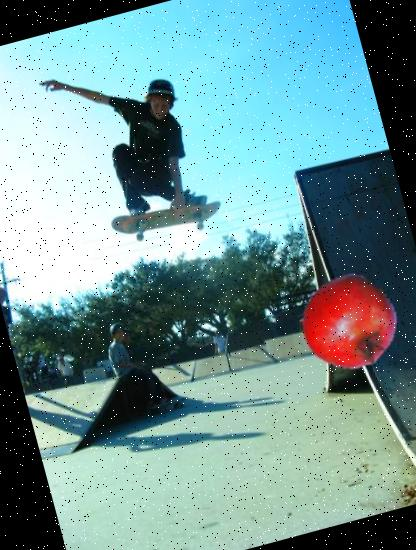Pomegranate: (290, 264, 406, 380)
